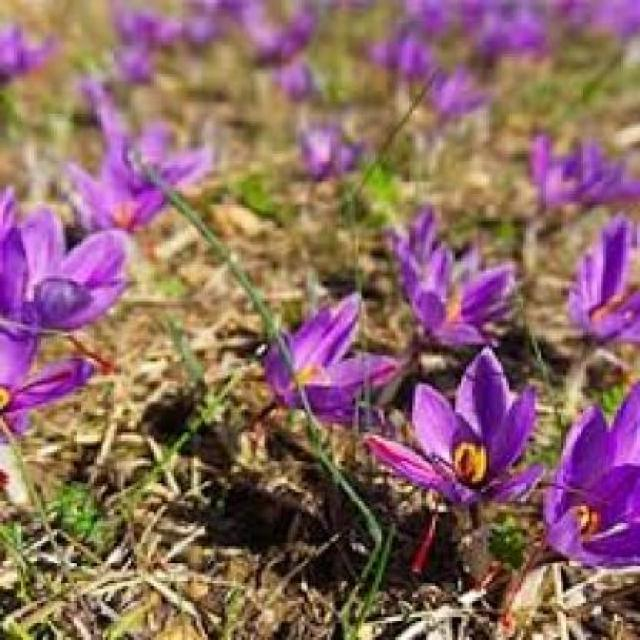saffron open: (369, 350, 542, 511), (1, 187, 129, 352), (544, 382, 639, 569), (266, 295, 393, 428), (397, 210, 514, 347), (568, 216, 639, 345)
